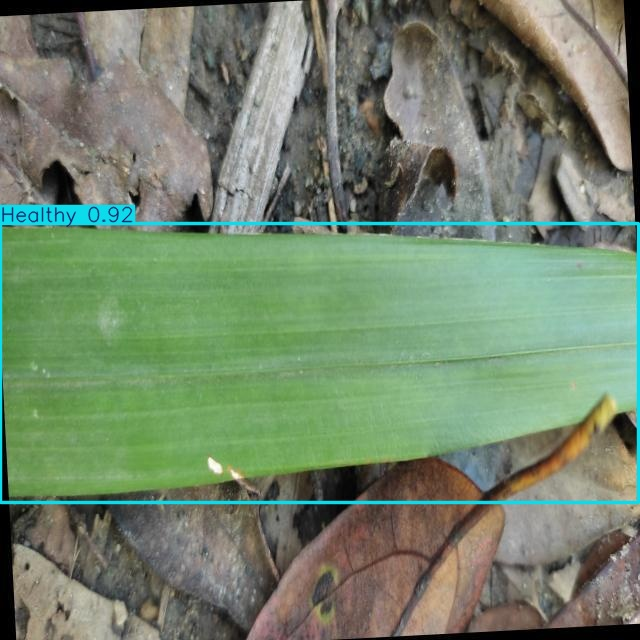Healthy: (1, 223, 639, 503)
